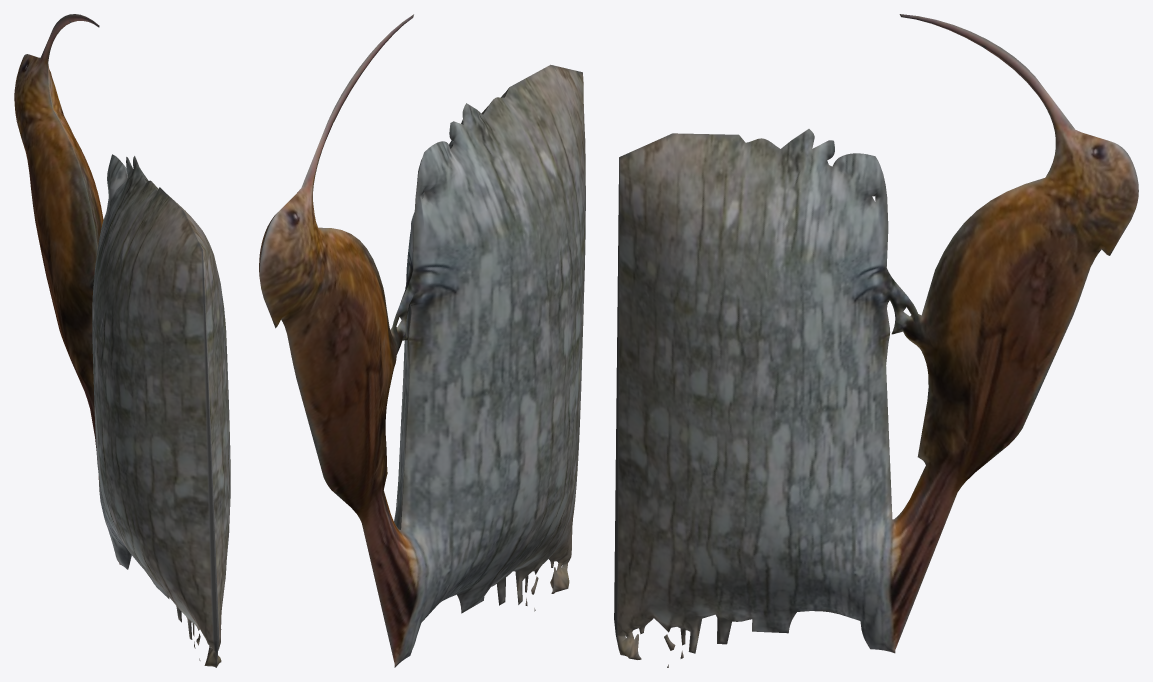
The model's file is Picapalo-Colorado-removebg-preview.gltf.
The picture shows the model from 3 angles, left to right: view 1: azimuth 30°, elevation 25°; view 2: azimuth 150°, elevation 25°; view 3: azimuth 270°, elevation 25°; orthographic projection. The views are drawn at different scales.
Parts seen in each view (by area): view 1: node1; view 2: node1; view 3: node1.
Boxes of the visible parts, x1,y1,x2,y2 form: node1: (14, 14, 230, 667); node1: (259, 14, 585, 667); node1: (614, 14, 1138, 667).
Size of the model in its own units: 0.348 by 1.65 by 1.2.
1 material, 1 textured.
